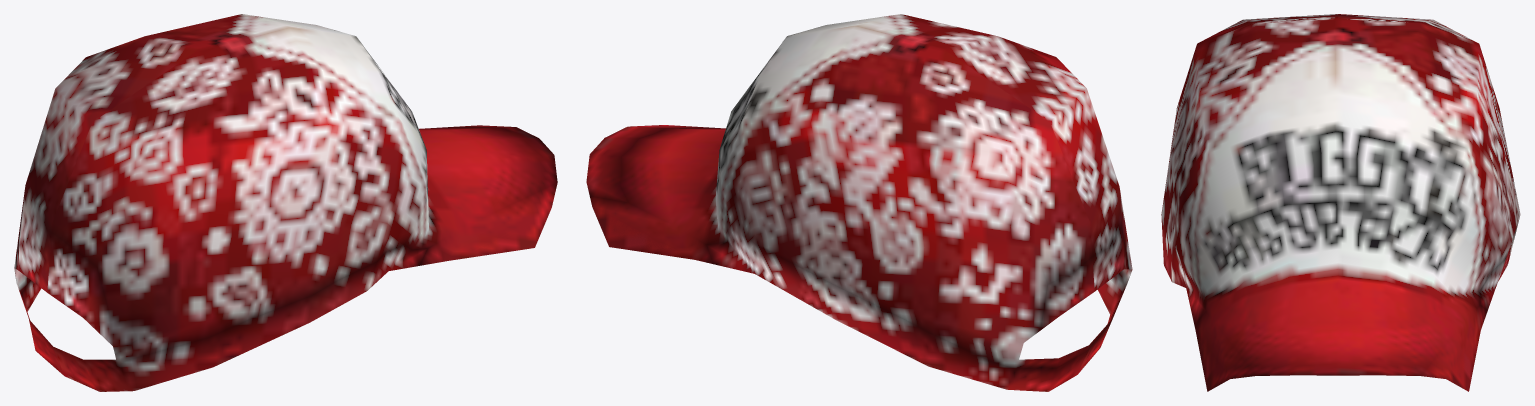
File: hat_0400025.FBX
3 renders of one model, left to right at view 1: azimuth 30°, elevation 25°; view 2: azimuth 150°, elevation 25°; view 3: azimuth 270°, elevation 25°, orthographic. The views are drawn at different scales.
Visible parts, largest first — view 1: hat_0400025; view 2: hat_0400025; view 3: hat_0400025.
Boxes of the visible parts, x1,y1,x2,y2 form: hat_0400025: (14,14,557,391); hat_0400025: (586,14,1132,391); hat_0400025: (1161,14,1520,391).
Size of the model in its own units: 38.53 by 22.08 by 23.11.
